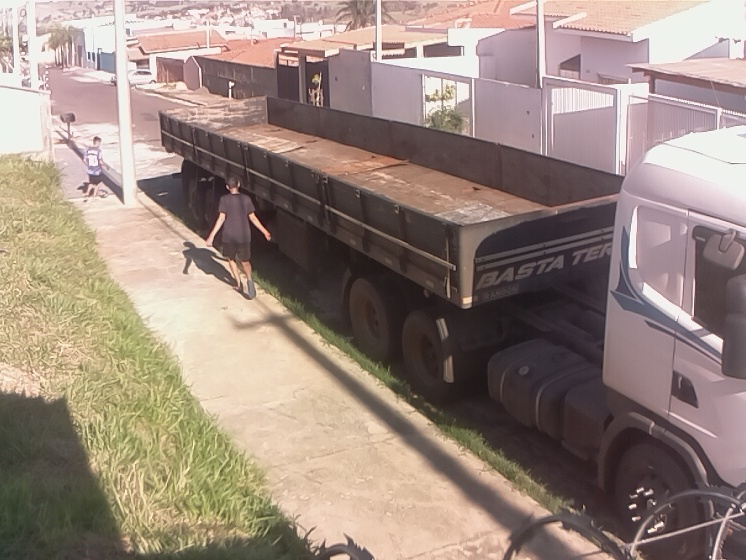person: (201, 173, 280, 302), (81, 134, 110, 204)
